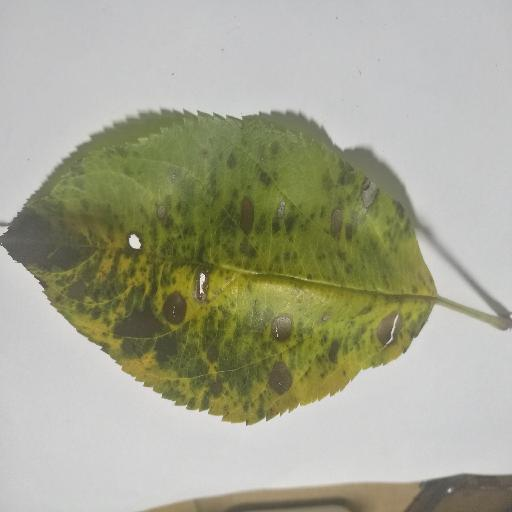Brown_Spot: (326, 201, 355, 240), (116, 228, 152, 257), (193, 265, 218, 306), (359, 176, 386, 213), (375, 309, 403, 343), (271, 312, 294, 337), (272, 363, 294, 388), (323, 337, 345, 362), (241, 196, 257, 226), (158, 301, 185, 317)
